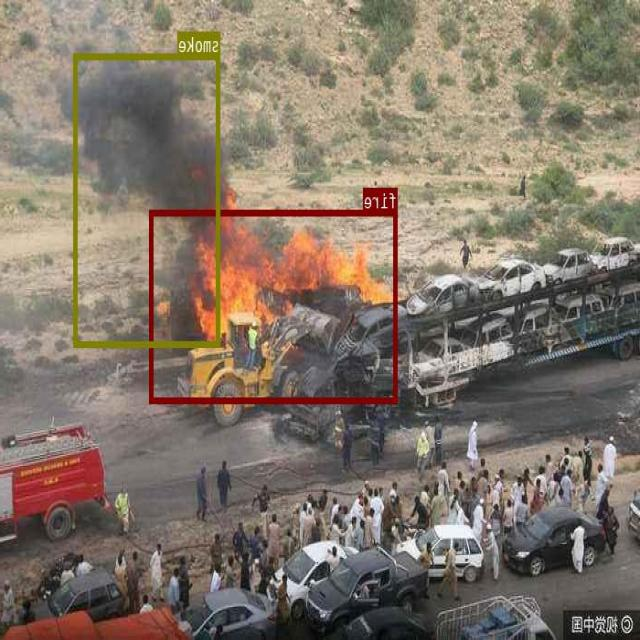fire: (151, 210, 398, 402)
smoke: (75, 52, 222, 346)
